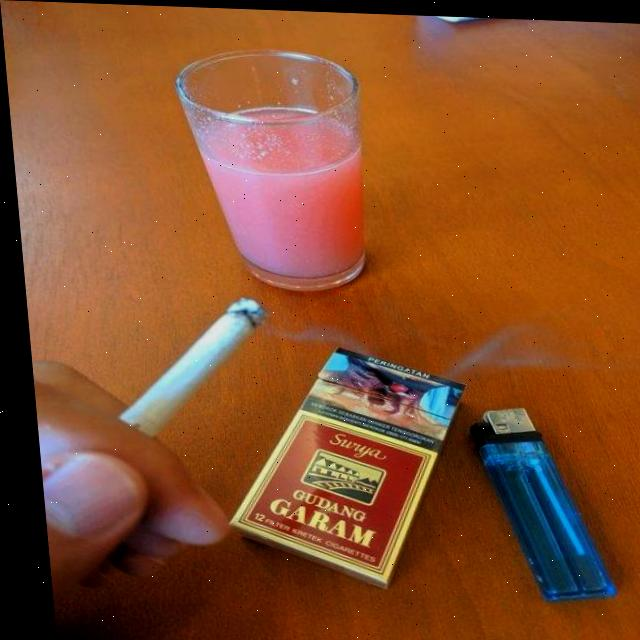cigarette: (104, 291, 271, 428)
